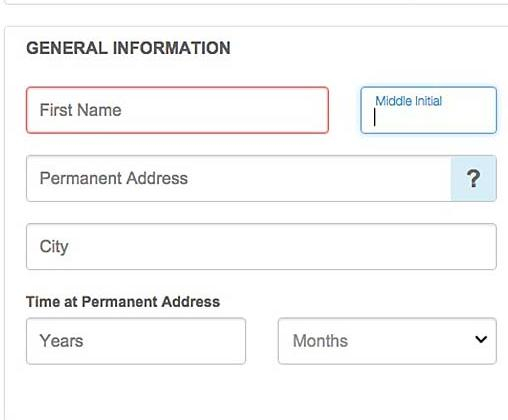field: (24, 153, 500, 203), (25, 222, 499, 272), (24, 84, 331, 136), (276, 316, 498, 366), (25, 316, 246, 364), (360, 84, 500, 135)
field_with_label: (22, 294, 249, 368)
